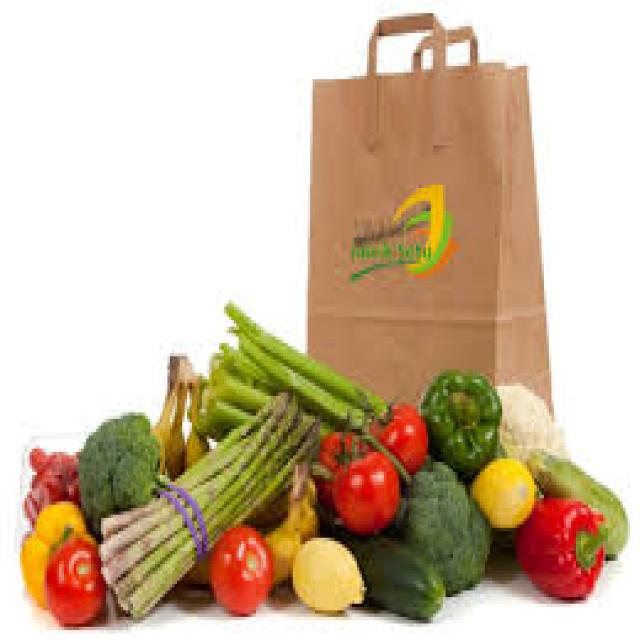organic waste: (96, 386, 295, 614), (170, 462, 317, 584), (222, 300, 382, 412), (226, 320, 362, 426), (396, 458, 485, 590), (522, 446, 625, 554), (74, 412, 155, 538), (334, 521, 440, 617), (510, 495, 606, 597), (416, 369, 500, 472), (17, 498, 91, 607), (148, 350, 206, 475), (42, 521, 106, 627), (330, 426, 394, 531), (494, 380, 564, 466), (207, 521, 271, 614), (22, 445, 76, 531), (364, 399, 424, 469), (468, 459, 534, 521), (310, 429, 360, 505), (219, 340, 273, 389), (204, 353, 258, 402), (197, 372, 246, 426), (194, 399, 227, 439)
